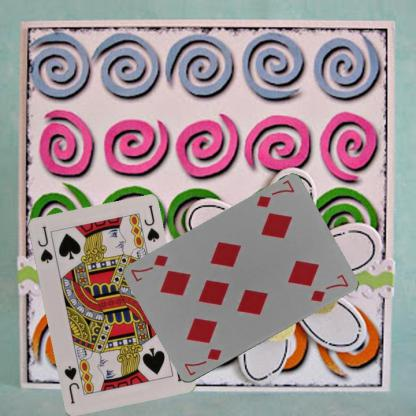7d: (254, 178, 296, 210), (181, 346, 223, 377)
Js: (34, 222, 53, 264)
